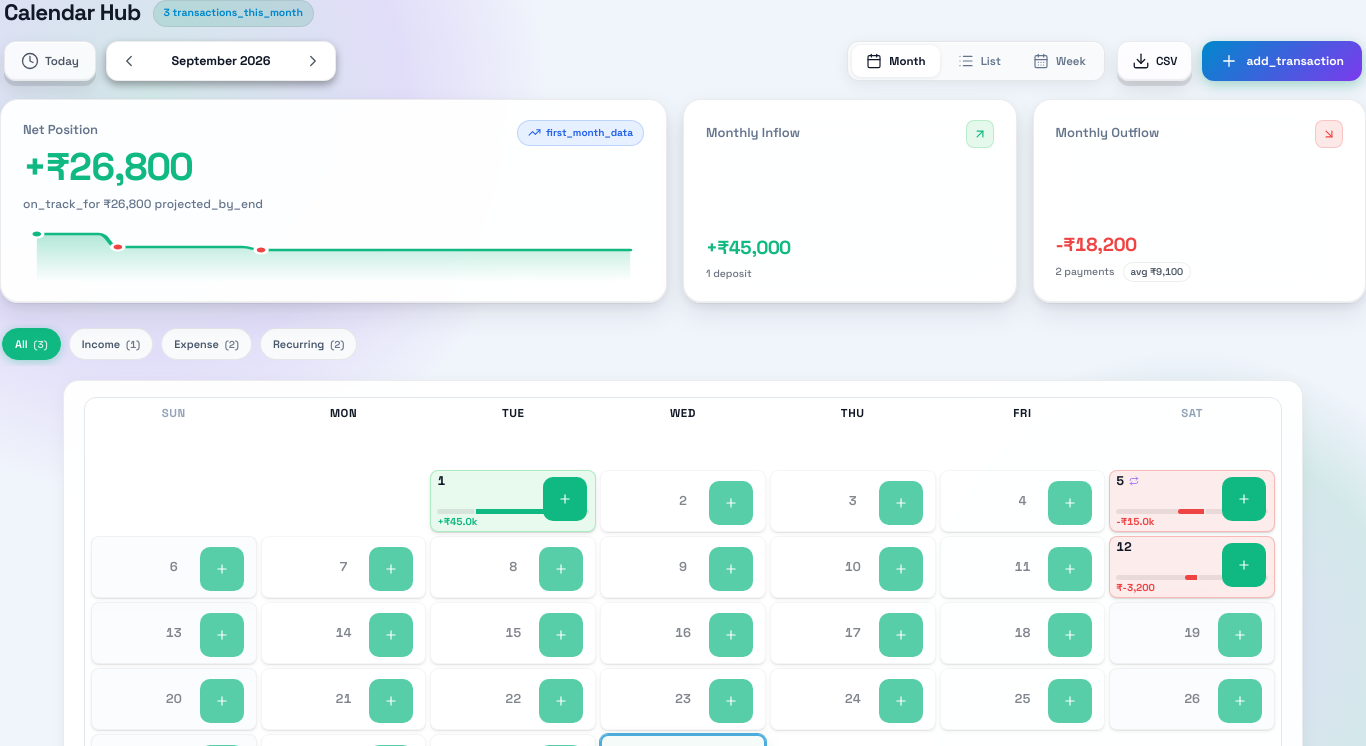
Test: Calendar Hub Financial Rhythm Overhaul › renders filter strip and supports switching to mobile list view
This screenshot has width=1366, height=746.
Expected: the element with class "cal-filter-strip" is shown, [2,328,358,360]
Expected: the button "All (3)" is shown, [2,328,61,360]
Switch to List View
What coordinates should you click on to do the following:
click the button "List"
I would click on:
 (979, 61)
Its box is [944,45,1015,77].
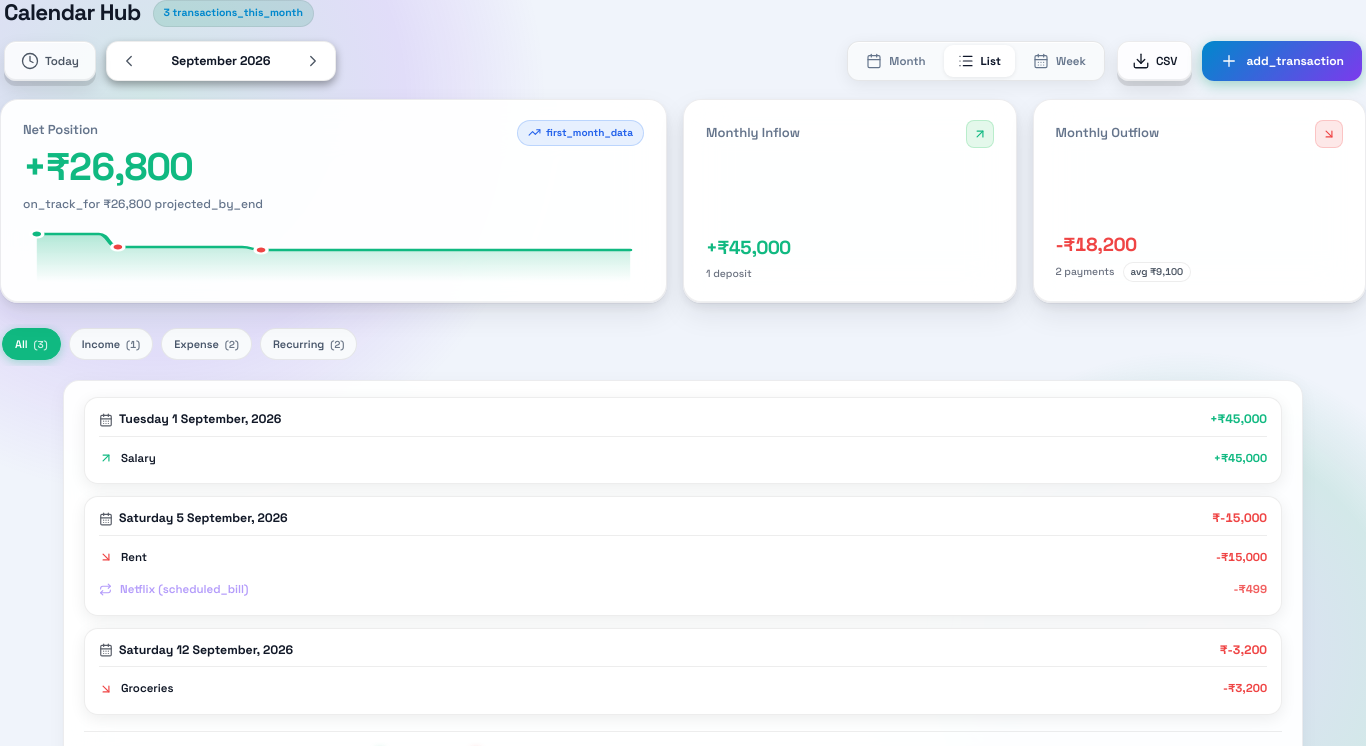
Expected: the element with class "cal-mobile-list" is shown, [84,397,1282,715]
